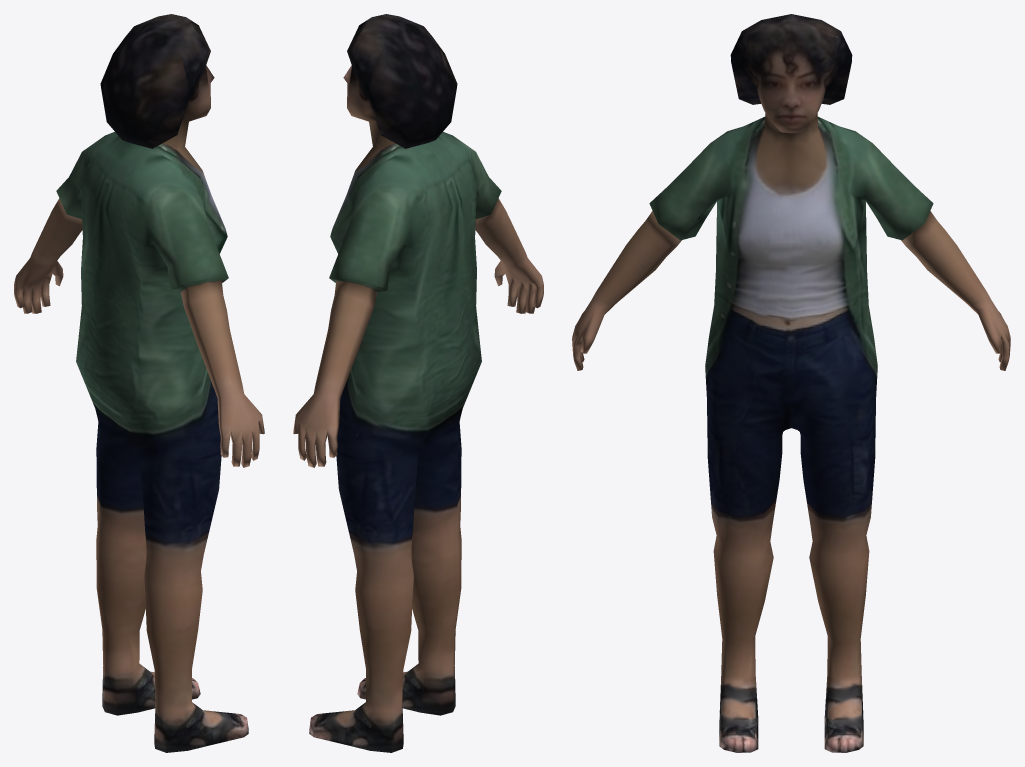
Rendered from Character_40_Female.fbx.
3 views of the same model, side by side, from view 1: azimuth 30°, elevation 25°; view 2: azimuth 150°, elevation 25°; view 3: azimuth 270°, elevation 25° (orthographic).
Visible parts, largest first — view 1: Character_40_Female; view 2: Character_40_Female; view 3: Character_40_Female.
Boxes of the visible parts, <box> form: Character_40_Female: <box>14,14,264,752</box>; Character_40_Female: <box>293,14,543,752</box>; Character_40_Female: <box>572,14,1010,752</box>.
Bounding box in the file's own units: 0.2709 × 1.48 × 0.8272.
